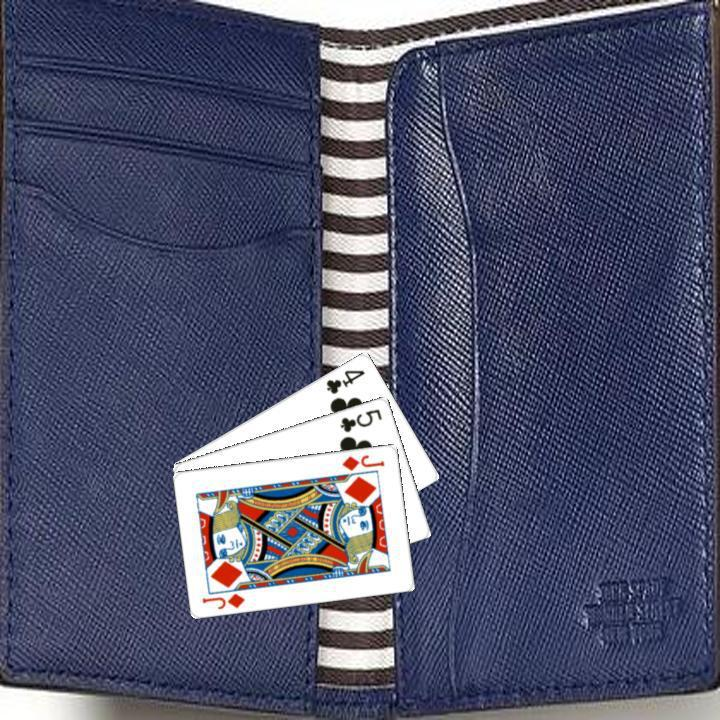4: (322, 365, 367, 396)
5: (336, 404, 384, 434)
J: (198, 588, 247, 611), (338, 450, 386, 472)
